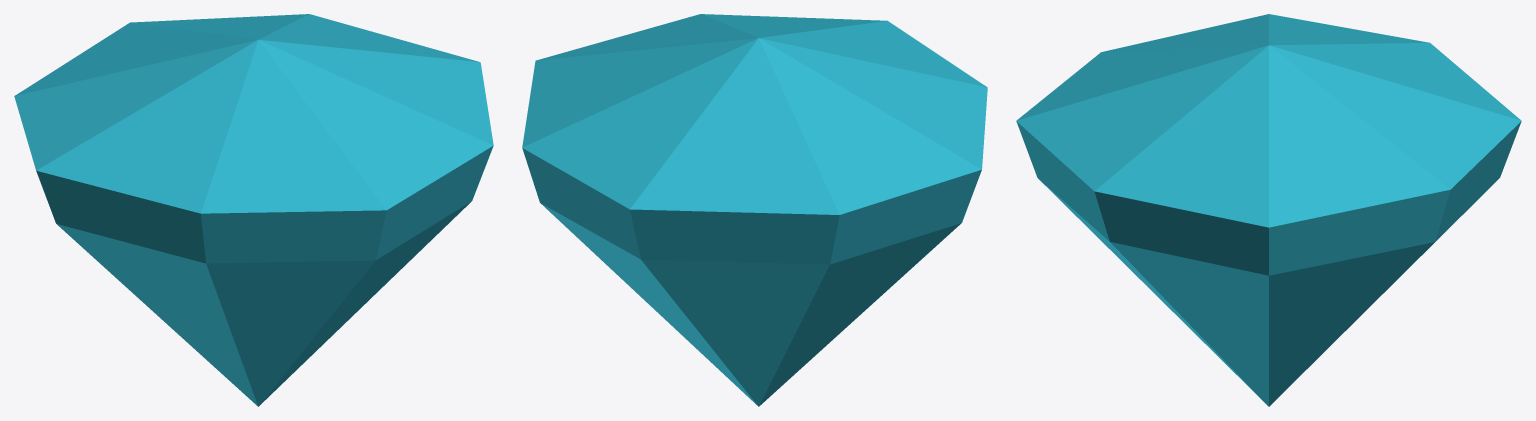
The model's file is IceJewel.fbx.
3 views of the same model, side by side, from view 1: azimuth 30°, elevation 25°; view 2: azimuth 150°, elevation 25°; view 3: azimuth 270°, elevation 25° (orthographic).
Visible parts, largest first — view 1: Cube; view 2: Cube; view 3: Cube.
Part boxes in pixels (x1=…): Cube: x1=14, y1=14, x2=493, y2=406; Cube: x1=522, y1=14, x2=987, y2=406; Cube: x1=1016, y1=14, x2=1521, y2=406.
Bounding box in the file's own units: 200 × 158 × 200.
